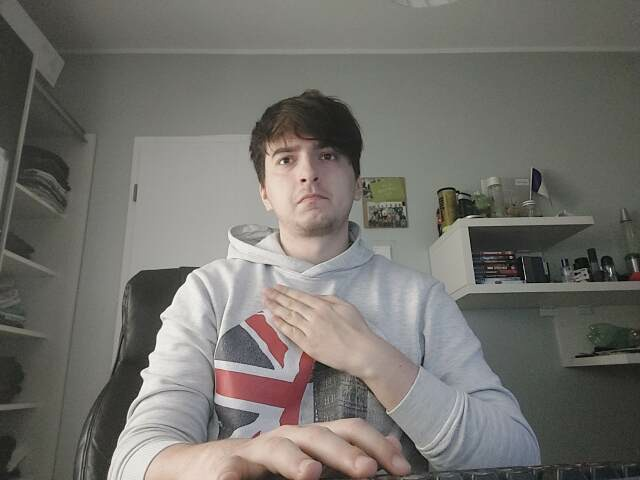please: (261, 283, 374, 370)
